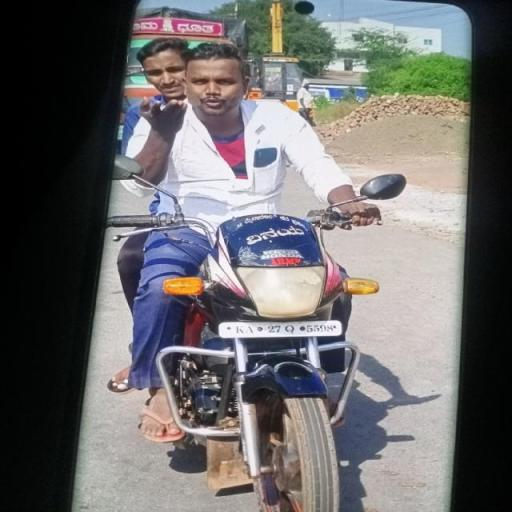bike: (88, 42, 404, 471)
numberplate: (218, 320, 338, 336)
withouthelmet: (187, 47, 246, 117), (138, 48, 193, 86)
